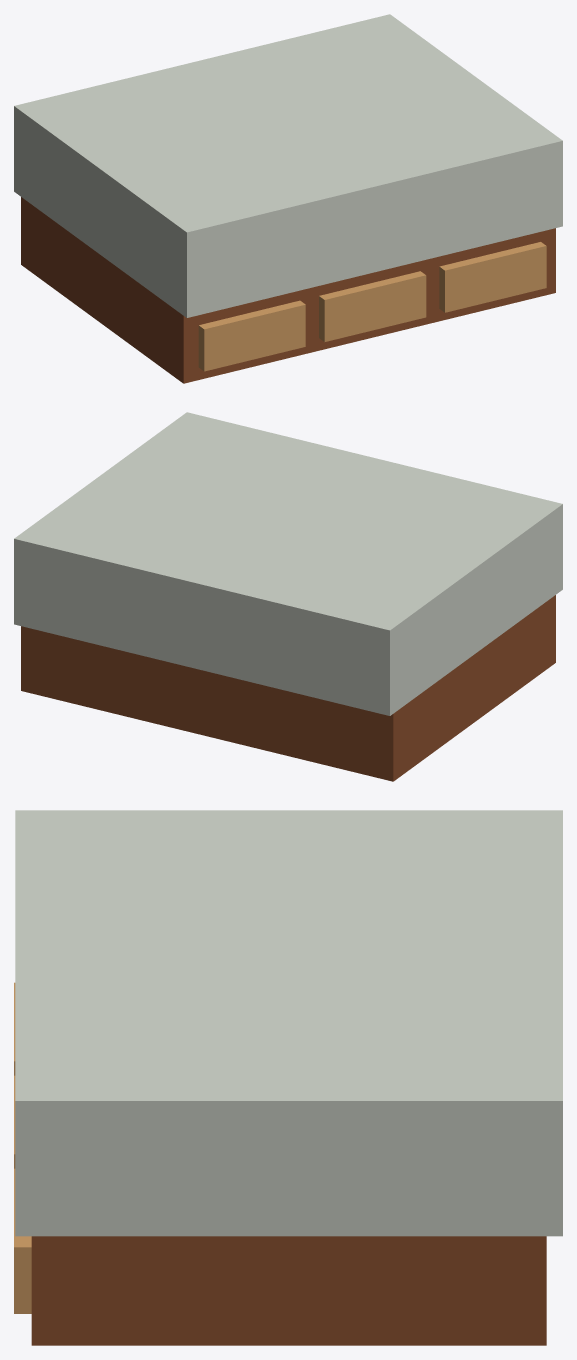
Rendered from desk_phone.glb.
3 renders of one model, top to bottom at view 1: azimuth 30°, elevation 25°; view 2: azimuth 150°, elevation 25°; view 3: azimuth 270°, elevation 25°, orthographic. The views are drawn at different scales.
Bounding box in the file's own units: 0.248 × 0.098 × 0.198.
Materials: 1 (1 with a texture image).
